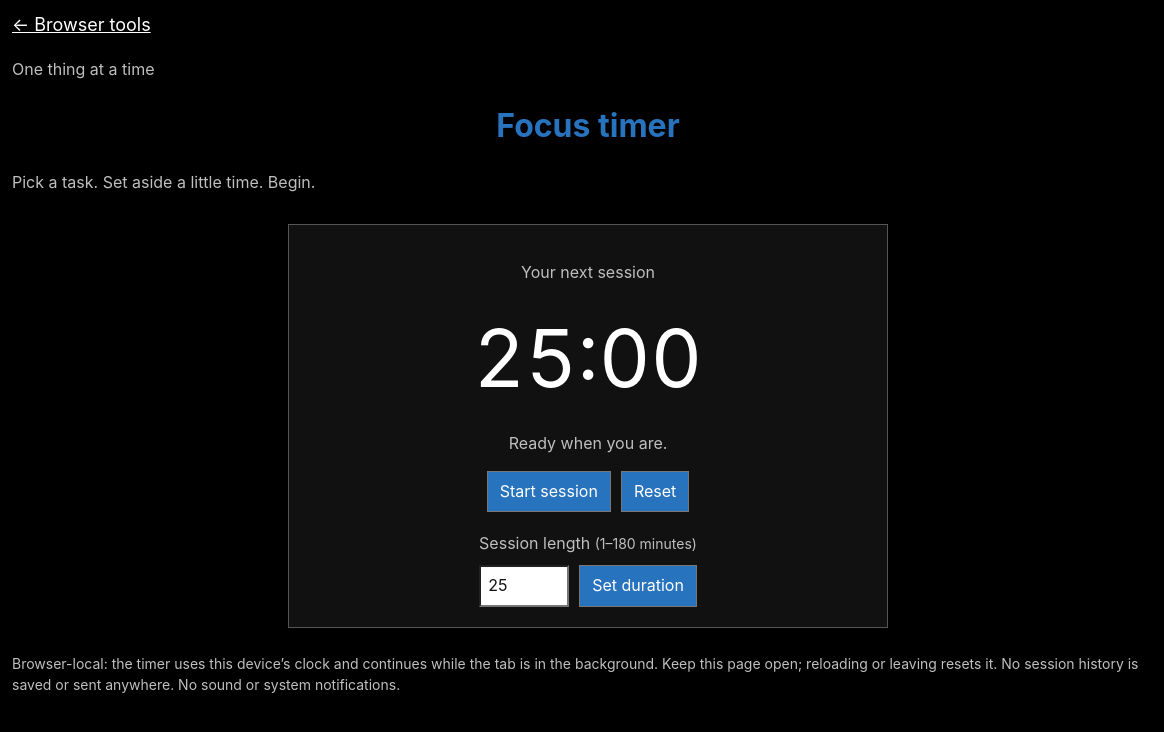
start, pause, resume and reset preserve the correct remaining time
The image size is (1164, 732).
What coordinates should you click on to do the following:
click the button "Start session"
I would click on:
 (549, 492)
Its box is [487, 471, 611, 512].
Wait 10000 ms
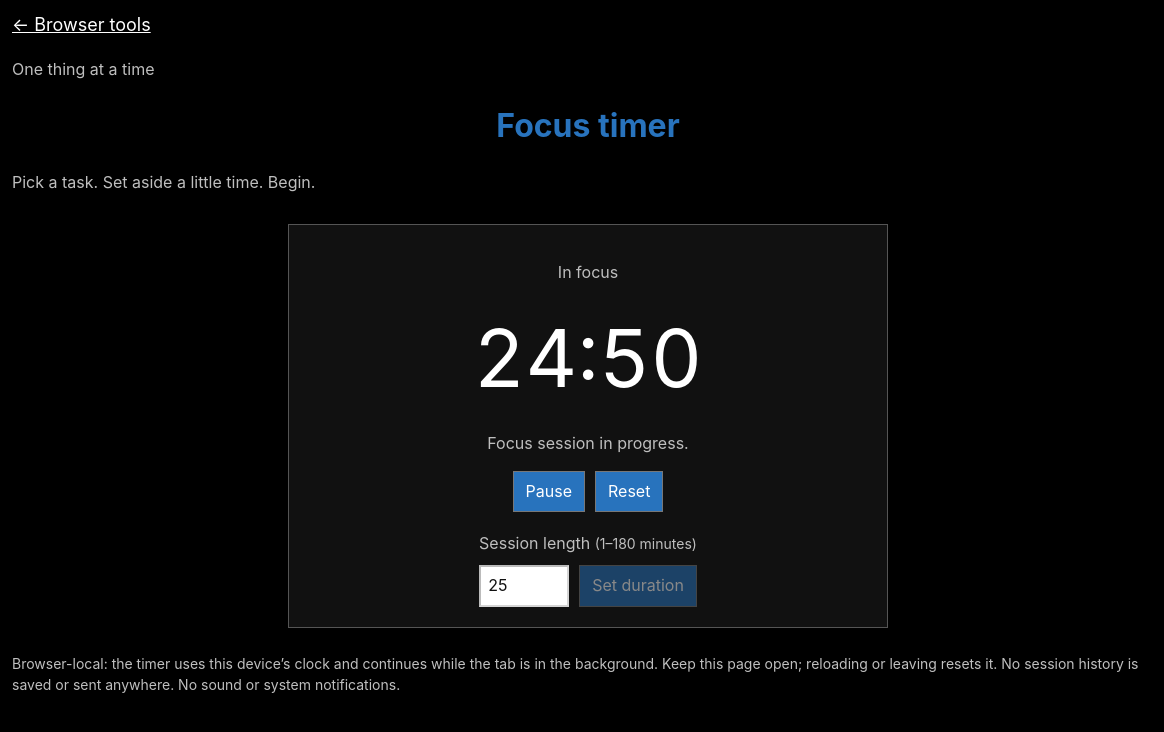
Check: the text "24:50" is shown, box [474, 309, 702, 406]
What coordinates should you click on to do the following:
click the button "Pause"
I would click on:
 (549, 492)
Its box is [513, 471, 585, 512].
Wait 5000 ms
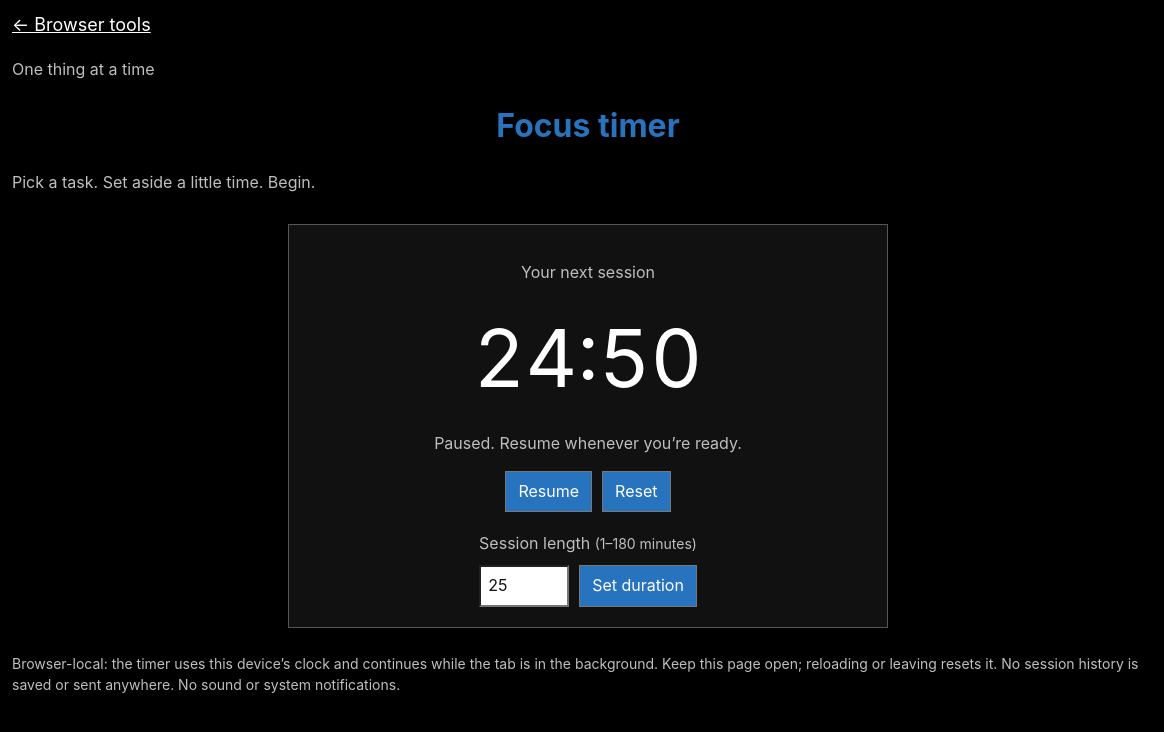
Check: the text "24:50" is shown, box [474, 309, 702, 406]
What coordinates should you click on to do the following:
click the button "Resume"
I would click on:
 (549, 492)
Its box is [506, 471, 592, 512].
Wait 2000 ms
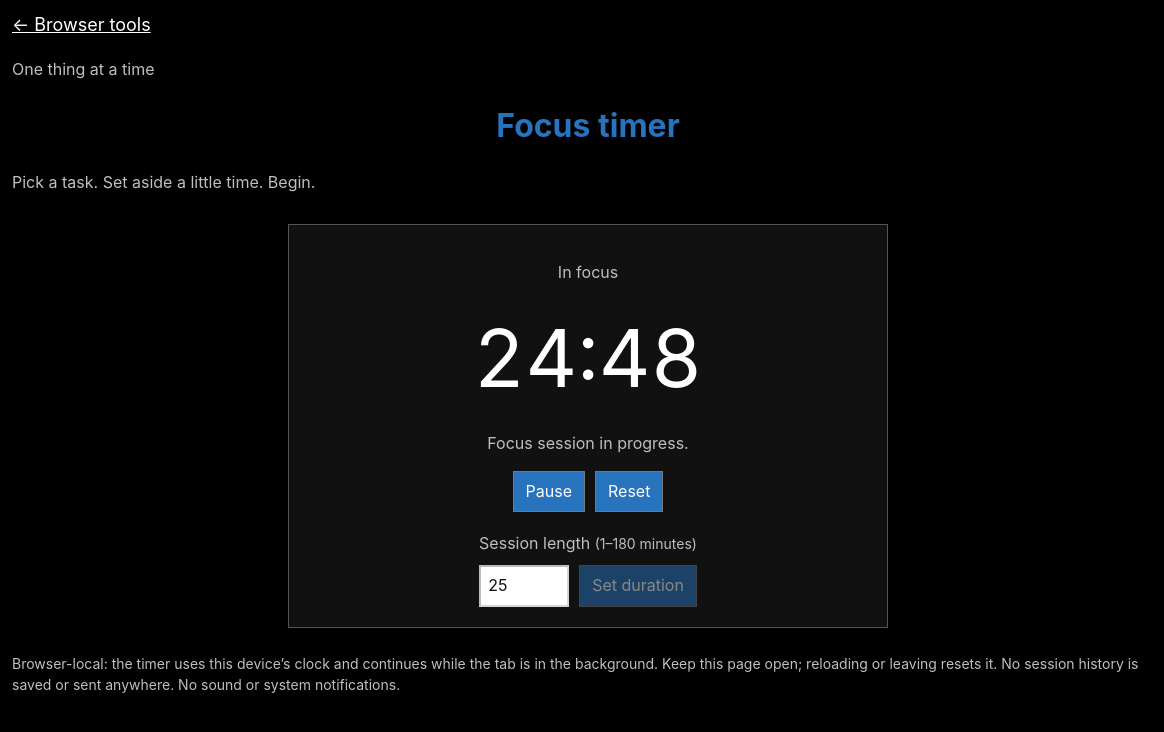
Check: the text "24:48" is shown, box [474, 309, 702, 406]
What coordinates should you click on to do the following:
click the button "Reset"
I would click on:
 (629, 492)
Its box is [595, 471, 663, 512].
Wait 5000 ms
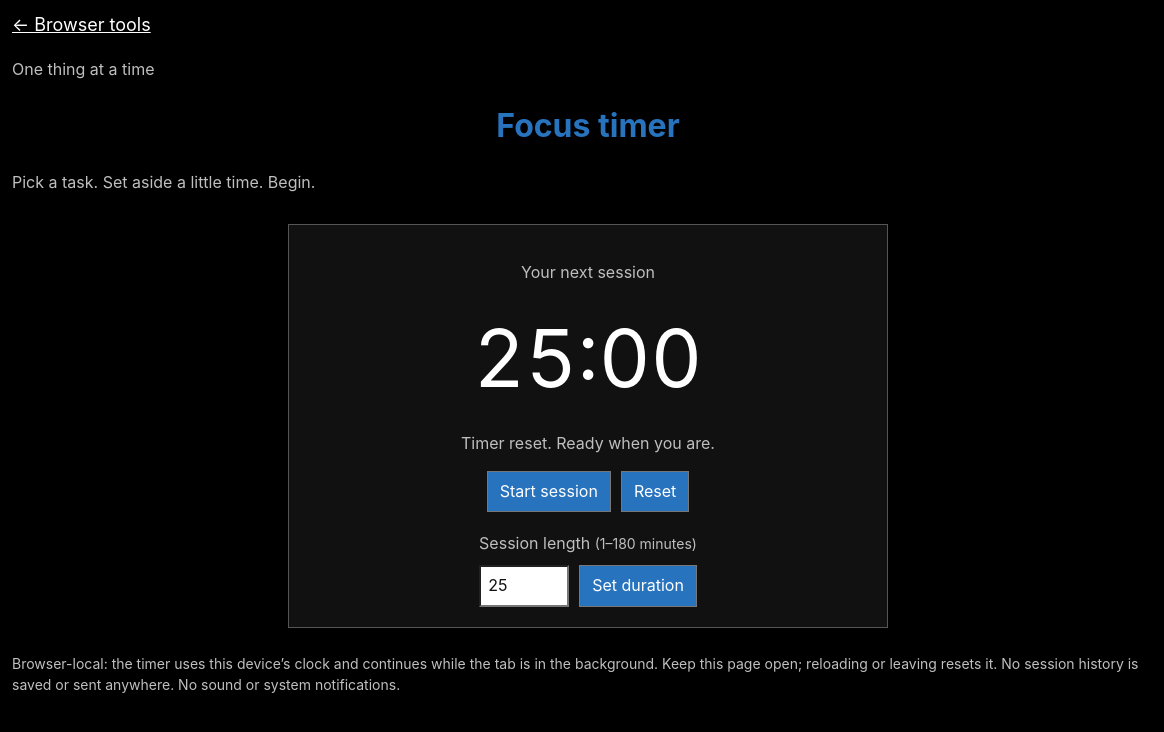
Check: the text "25:00" is shown, box [474, 309, 702, 406]
